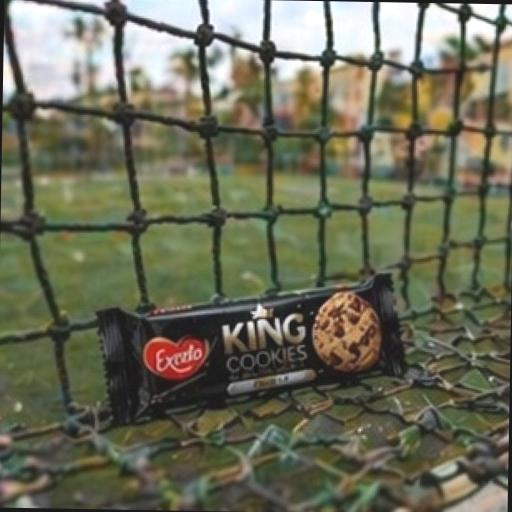king-cooking: (64, 242, 450, 428)
